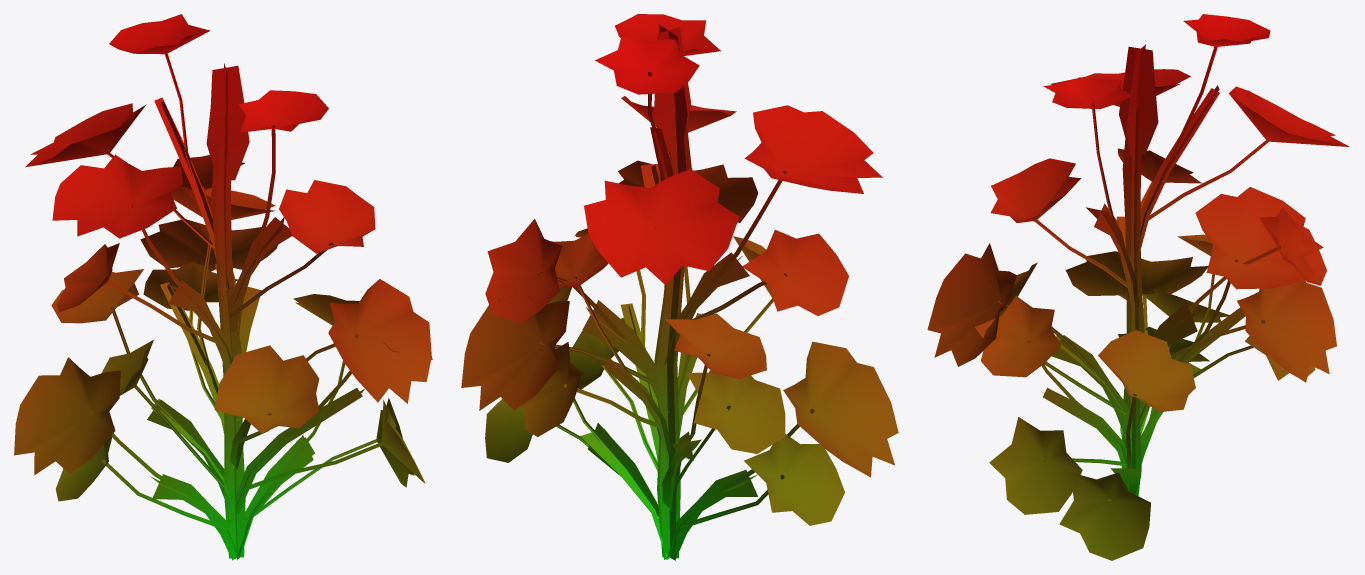
The model's file is Var5_LOD1.fbx.
The picture shows the model from 3 angles, left to right: view 1: azimuth 30°, elevation 25°; view 2: azimuth 150°, elevation 25°; view 3: azimuth 270°, elevation 25°; orthographic projection. The views are drawn at different scales.
Parts seen in each view (by area): view 1: _49ab_Var5_LOD1; view 2: _49ab_Var5_LOD1; view 3: _49ab_Var5_LOD1.
Boxes of the visible parts, left/top/right/bottom form: _49ab_Var5_LOD1: left=14, top=14, right=432, bottom=560; _49ab_Var5_LOD1: left=461, top=14, right=898, bottom=560; _49ab_Var5_LOD1: left=927, top=14, right=1349, bottom=560.
Size of the model in its own units: 73.12 by 96.38 by 75.15.
